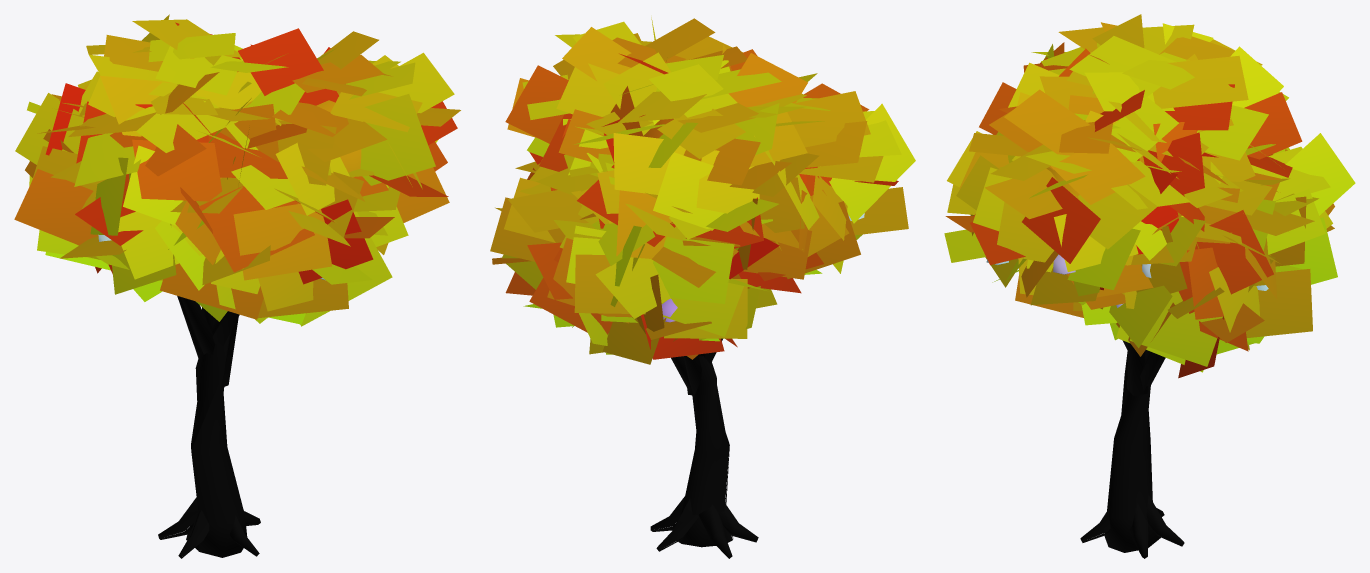
Rendered from tree_fruit.glb.
3 views of the same model, side by side, from view 1: azimuth 30°, elevation 25°; view 2: azimuth 150°, elevation 25°; view 3: azimuth 270°, elevation 25° (orthographic). The views are drawn at different scales.
Parts seen in each view (by area): view 1: foliage_leaf_sprays, bark_branching_trunk, foliage_painted_crown; view 2: foliage_leaf_sprays, bark_branching_trunk; view 3: foliage_leaf_sprays, bark_branching_trunk.
Part boxes in pixels (x1=…): foliage_leaf_sprays: x1=14, y1=14, x2=460, y2=326; bark_branching_trunk: x1=158, y1=296, x2=260, y2=558; foliage_painted_crown: x1=122, y1=83, x2=361, y2=203; foliage_leaf_sprays: x1=490, y1=17, x2=915, y2=364; bark_branching_trunk: x1=650, y1=338, x2=758, y2=558; foliage_leaf_sprays: x1=944, y1=14, x2=1355, y2=378; bark_branching_trunk: x1=1080, y1=340, x2=1184, y2=558.
Size of the model in its own units: 3.77 by 4.35 by 3.38.
